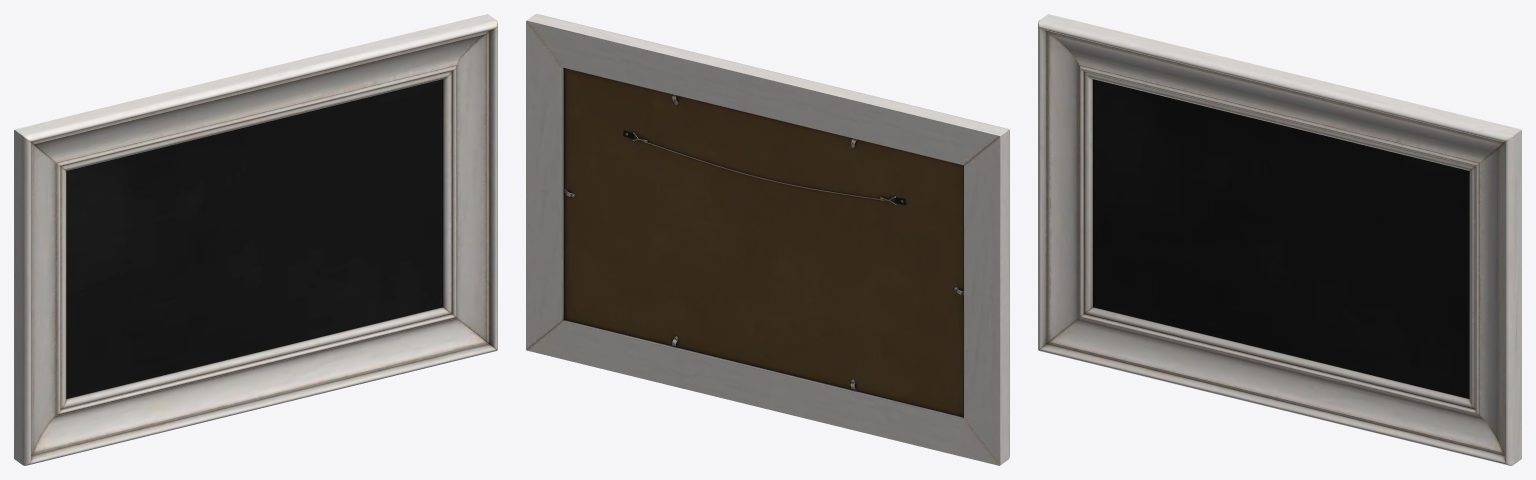
The model's file is hanging_picture_frame_02.glb.
The picture shows the model from 3 angles, left to right: view 1: azimuth 30°, elevation 25°; view 2: azimuth 150°, elevation 25°; view 3: azimuth 330°, elevation 25°; orthographic projection.
Parts seen in each view (by area): view 1: hanging_picture_frame_02; view 2: hanging_picture_frame_02; view 3: hanging_picture_frame_02.
Part boxes in pixels (x1,y1,x2,y2): hanging_picture_frame_02: (14, 14, 497, 465); hanging_picture_frame_02: (526, 14, 1009, 465); hanging_picture_frame_02: (1038, 14, 1521, 465).
Size of the model in its own units: 0.7518 by 0.5 by 0.033.
3 materials, 3 textured.
